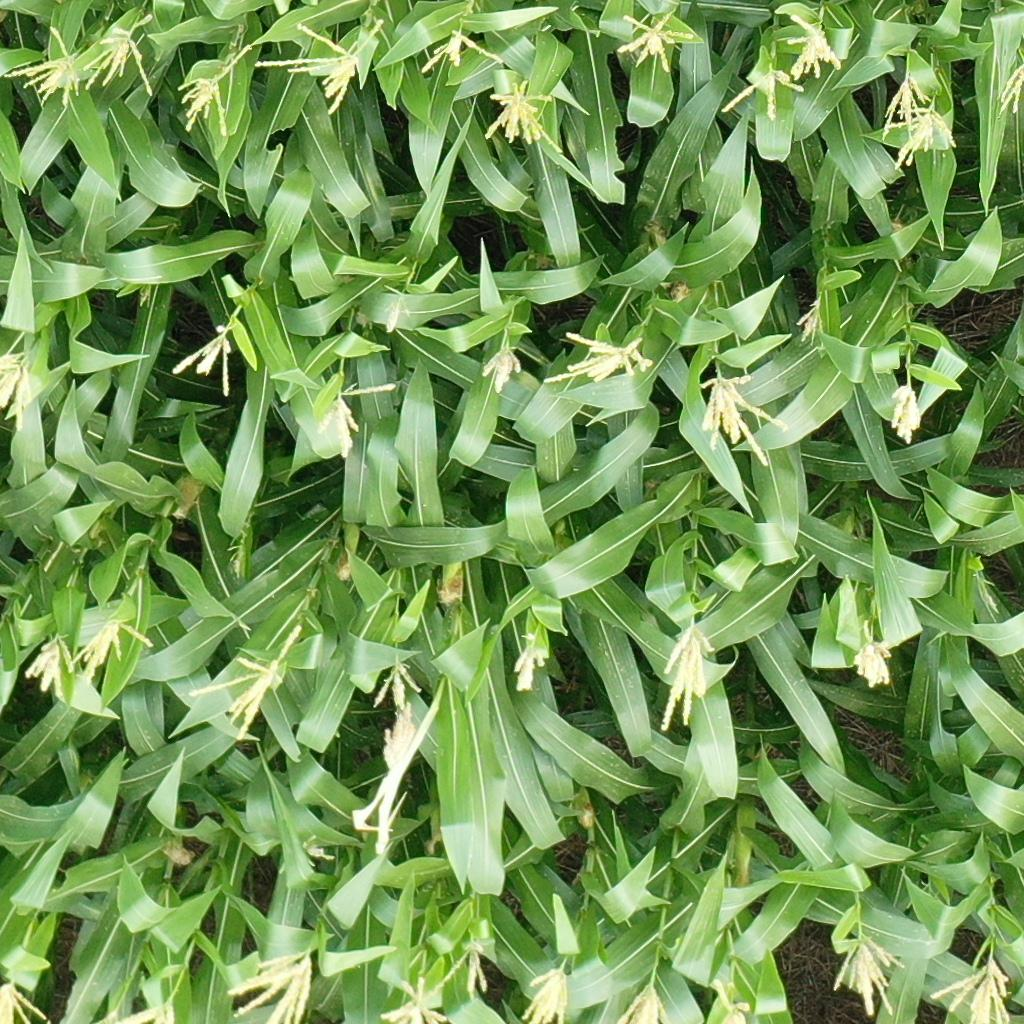Tassel: (185, 623, 311, 744), (252, 20, 385, 116), (695, 369, 788, 466), (227, 938, 320, 1024), (173, 39, 254, 137), (656, 610, 719, 732), (311, 380, 399, 464), (481, 79, 565, 159), (543, 328, 654, 388), (829, 930, 904, 1018), (81, 9, 154, 97), (2, 25, 80, 107), (925, 954, 1015, 1024), (613, 3, 698, 74), (67, 616, 154, 682), (714, 66, 805, 124), (885, 99, 957, 172), (172, 324, 242, 398), (417, 29, 507, 77), (875, 72, 931, 142), (847, 615, 897, 692), (788, 12, 843, 79), (23, 634, 78, 701), (377, 699, 418, 782), (1, 348, 39, 435), (441, 934, 494, 995), (382, 975, 447, 1024), (517, 965, 570, 1024), (507, 632, 551, 697), (370, 660, 423, 713), (609, 979, 670, 1024), (1, 977, 50, 1024), (95, 997, 179, 1024), (887, 384, 923, 446), (708, 977, 752, 1024), (483, 341, 524, 391), (381, 278, 411, 334), (795, 299, 827, 351), (997, 57, 1024, 117), (299, 832, 337, 872), (974, 570, 1001, 613), (223, 538, 247, 577), (136, 279, 153, 310)
